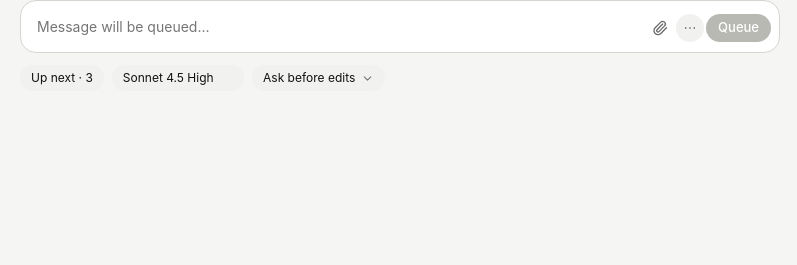
Test: the Up next chip › opens the list in delivery order, with the files a message carries
Click the button "Up next · 3" at (62, 78), box [20,65,104,91]
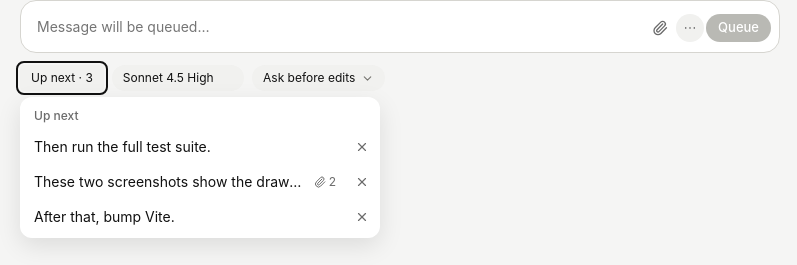
Expected: the text "Up next" is shown, [34,108,78,123]
